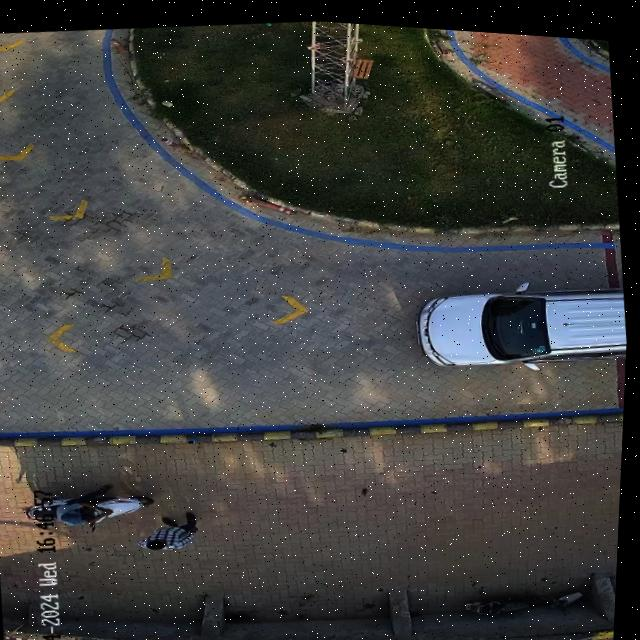car: (419, 275, 629, 360)
